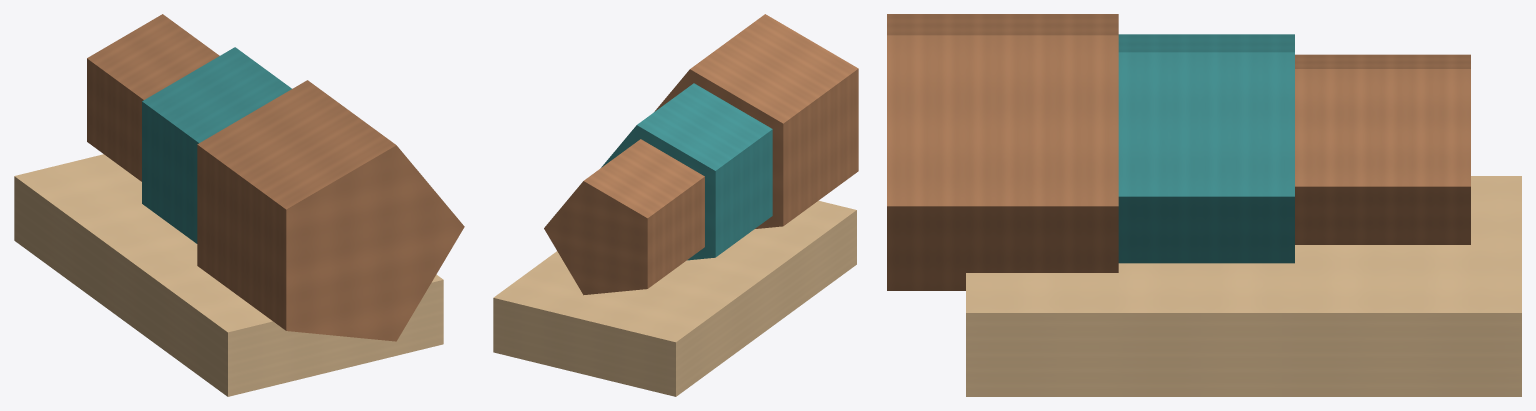
Rendered from atlas100-s092-a05.lod1.glb.
The picture shows the model from 3 angles, left to right: view 1: azimuth 30°, elevation 25°; view 2: azimuth 150°, elevation 25°; view 3: azimuth 270°, elevation 25°; orthographic projection. The views are drawn at different scales.
Visible parts, largest first — view 1: atlas100-s092-a05:part-002, atlas100-s092-a05:part-004, atlas100-s092-a05:part-001, atlas100-s092-a05:part-000; view 2: atlas100-s092-a05:part-004, atlas100-s092-a05:part-002, atlas100-s092-a05:part-000, atlas100-s092-a05:part-001; view 3: atlas100-s092-a05:part-004, atlas100-s092-a05:part-002, atlas100-s092-a05:part-001, atlas100-s092-a05:part-000.
Boxes of the visible parts, x1=… form: atlas100-s092-a05:part-002: x1=197, y1=80, x2=464, y2=341; atlas100-s092-a05:part-004: x1=14, y1=154, x2=443, y2=396; atlas100-s092-a05:part-001: x1=142, y1=47, x2=291, y2=243; atlas100-s092-a05:part-000: x1=87, y1=14, x2=219, y2=181; atlas100-s092-a05:part-004: x1=493, y1=200, x2=856, y2=396; atlas100-s092-a05:part-002: x1=654, y1=14, x2=858, y2=228; atlas100-s092-a05:part-000: x1=544, y1=139, x2=704, y2=295; atlas100-s092-a05:part-001: x1=601, y1=83, x2=772, y2=260; atlas100-s092-a05:part-004: x1=966, y1=176, x2=1521, y2=396; atlas100-s092-a05:part-002: x1=887, y1=14, x2=1118, y2=290; atlas100-s092-a05:part-001: x1=1118, y1=34, x2=1294, y2=263; atlas100-s092-a05:part-000: x1=1295, y1=54, x2=1470, y2=244.
Size of the model in its own units: 0.3822 by 0.4064 by 0.748.
Materials: 3 (3 with a texture image).
